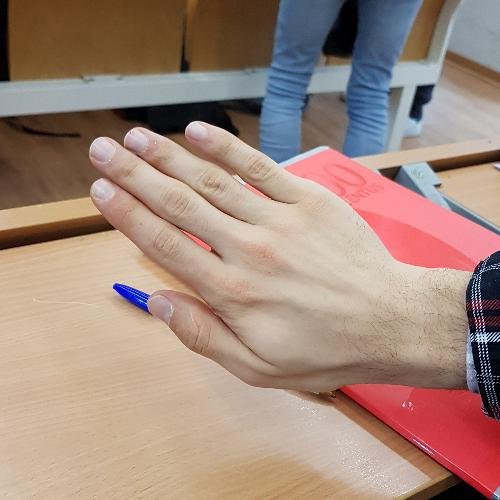paper: (73, 112, 440, 404)
